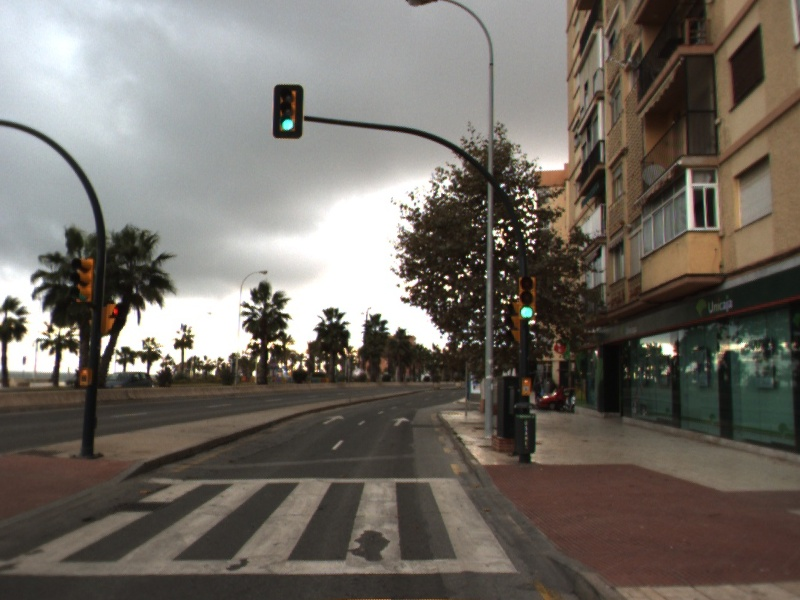STRAIGHT: (321, 413, 346, 426), (391, 415, 411, 428)
